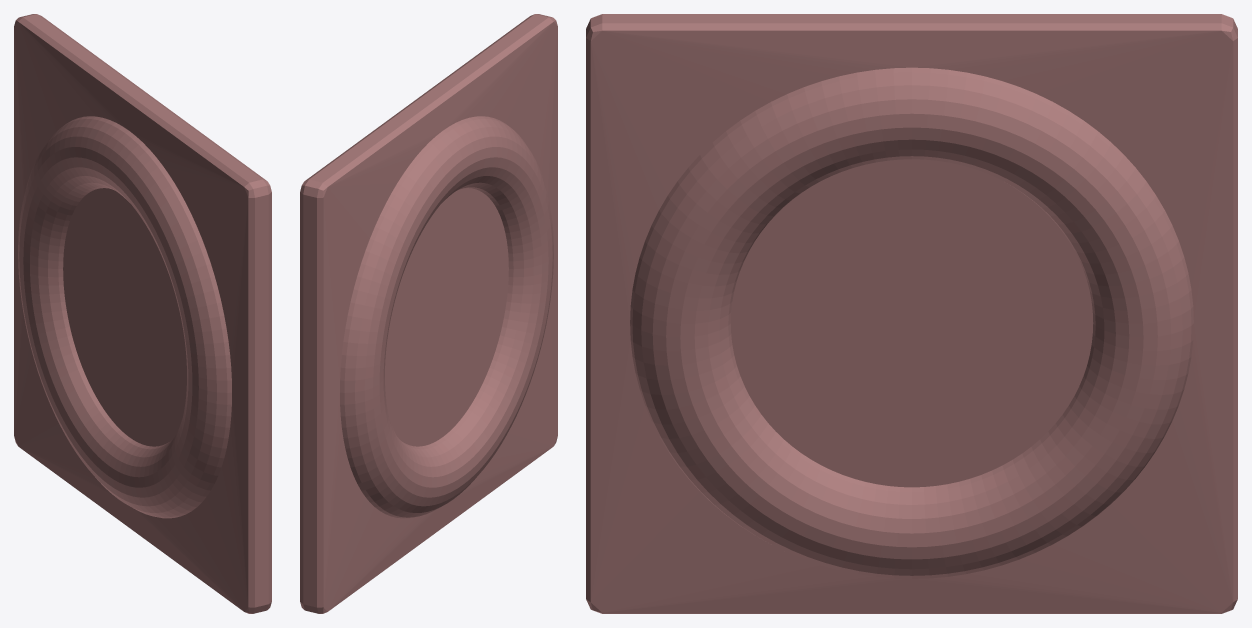
The model's file is Condom_Unit.fbx.
The picture shows the model from 3 angles, left to right: view 1: azimuth 30°, elevation 25°; view 2: azimuth 150°, elevation 25°; view 3: azimuth 270°, elevation 25°; orthographic projection. The views are drawn at different scales.
Parts seen in each view (by area): view 1: Condom_Unit; view 2: Condom_Unit; view 3: Condom_Unit.
Boxes of the visible parts, x1,y1,x2,y2 form: Condom_Unit: (14,14,271,613); Condom_Unit: (300,14,557,613); Condom_Unit: (586,14,1237,613).
Bounding box in the file's own units: 0.4777 × 2.81 × 2.81.
